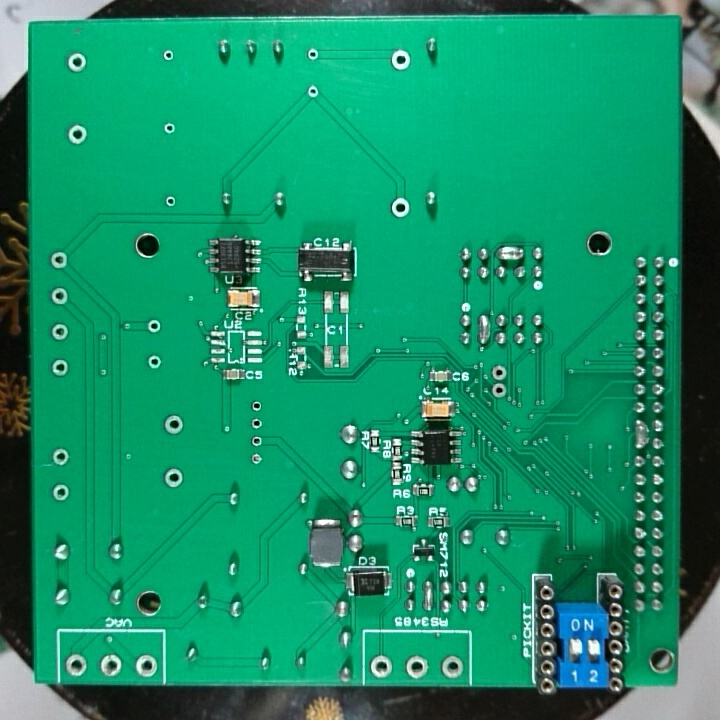F: (97, 651, 125, 678), (404, 651, 431, 679), (368, 652, 394, 681), (133, 652, 158, 680), (65, 650, 90, 677), (439, 654, 466, 679), (388, 47, 414, 72), (64, 122, 91, 146), (64, 49, 88, 75), (162, 412, 186, 438), (161, 466, 186, 490), (388, 196, 411, 220), (48, 320, 70, 344), (50, 480, 72, 504), (49, 249, 71, 272), (49, 285, 71, 308), (48, 356, 71, 377), (50, 446, 71, 468), (145, 351, 165, 372), (488, 381, 510, 400), (489, 363, 510, 380), (145, 316, 162, 336), (160, 120, 179, 137), (249, 448, 265, 467), (248, 398, 265, 415), (305, 45, 321, 63), (163, 193, 178, 212), (249, 416, 265, 433), (305, 84, 320, 102), (249, 432, 265, 448), (161, 46, 175, 63)
P: (632, 418, 651, 450), (495, 244, 525, 263), (476, 313, 492, 346), (422, 579, 434, 615)
